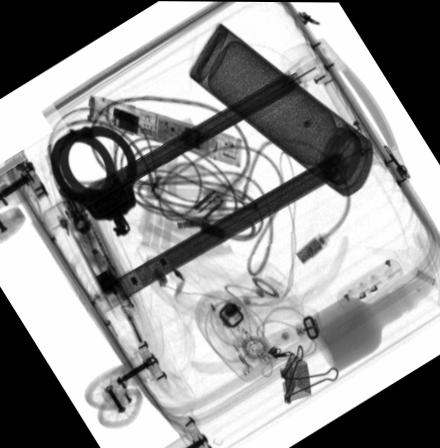Baton: (86, 94, 241, 167)
HandCuffs: (49, 124, 136, 236)
